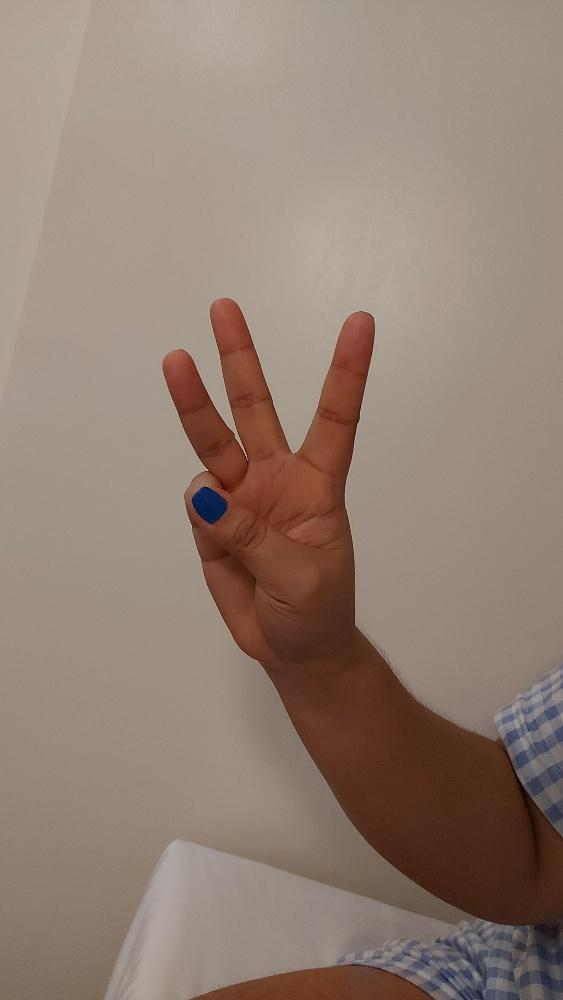w: (159, 294, 378, 661)
